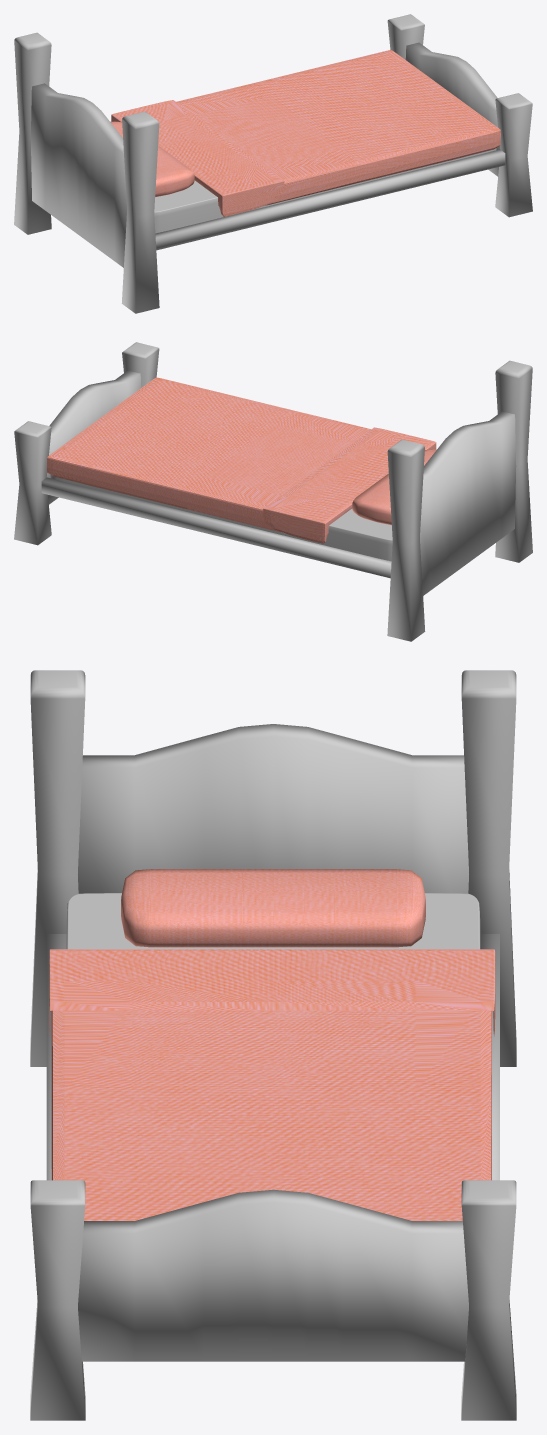
The model's file is SingleBed.fbx.
3 renders of one model, top to bottom at view 1: azimuth 30°, elevation 25°; view 2: azimuth 150°, elevation 25°; view 3: azimuth 270°, elevation 25°, orthographic. The views are drawn at different scales.
Visible parts, largest first — view 1: Cube.007, Cube.015, Cube.013, Cube.014; view 2: Cube.007, Cube.015, Cube.013, Cube.014; view 3: Cube.007, Cube.015, Cube.014, Cube.013.
Part boxes in pixels (bbox=[...]): Cube.007: bbox=[14, 14, 532, 313]; Cube.015: bbox=[111, 50, 500, 216]; Cube.013: bbox=[154, 148, 496, 233]; Cube.014: bbox=[110, 121, 194, 196]; Cube.007: bbox=[14, 342, 532, 641]; Cube.015: bbox=[47, 377, 436, 543]; Cube.013: bbox=[50, 474, 392, 561]; Cube.014: bbox=[352, 449, 436, 524]; Cube.007: bbox=[30, 670, 516, 1420]; Cube.015: bbox=[49, 949, 495, 1220]; Cube.014: bbox=[121, 869, 425, 947]; Cube.013: bbox=[66, 893, 480, 949].
Bounding box in the file's own units: 894 × 405 × 474.
